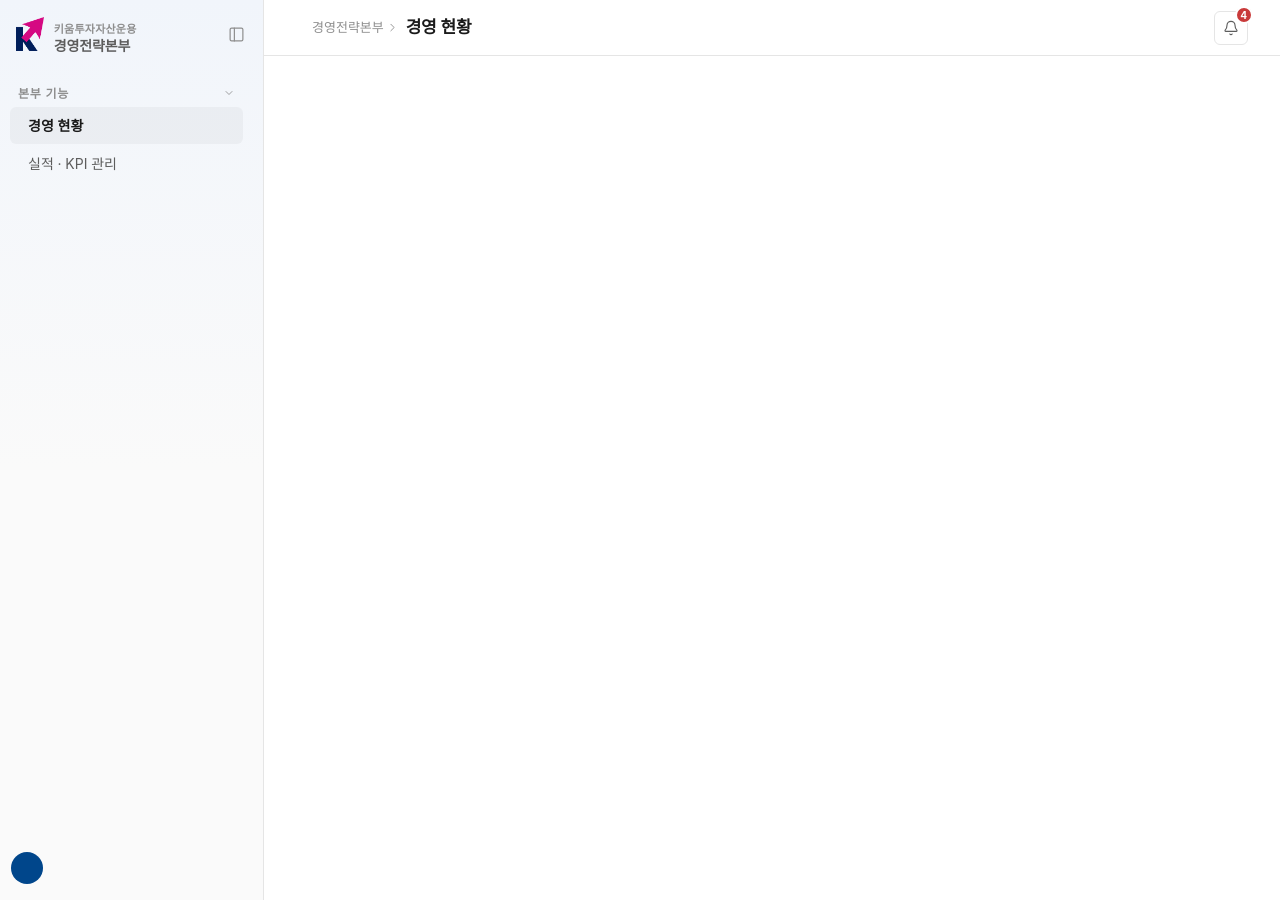
Test: 다른 페이지로 옮겨도 열린 채로 있고, 알림 내용을 다시 그리지 않는다
Click the button named "알림" at (1231, 28), box [1214,10,1248,44]
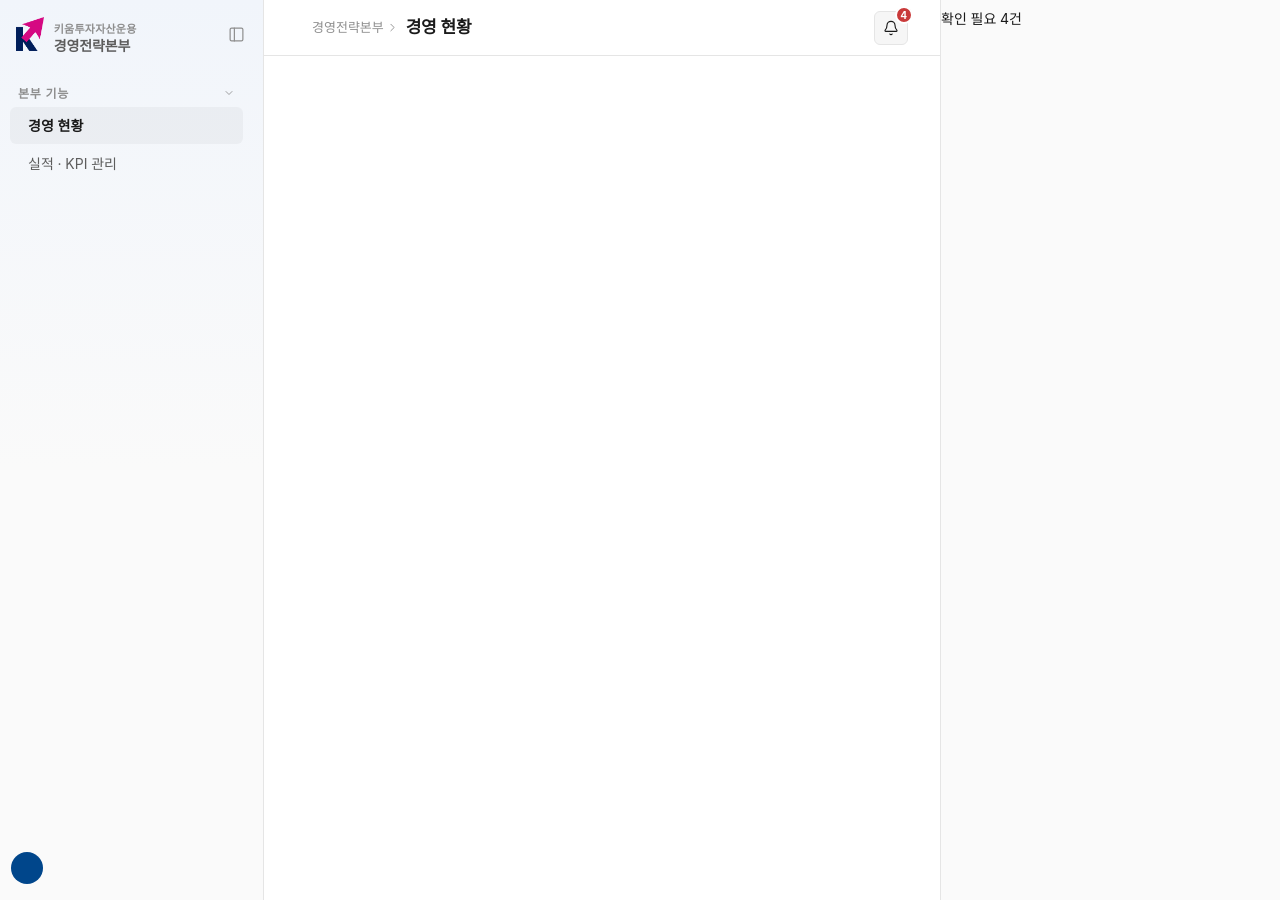
Click the link "실적 · KPI 관리" at (72, 164), box [28,155,117,172]
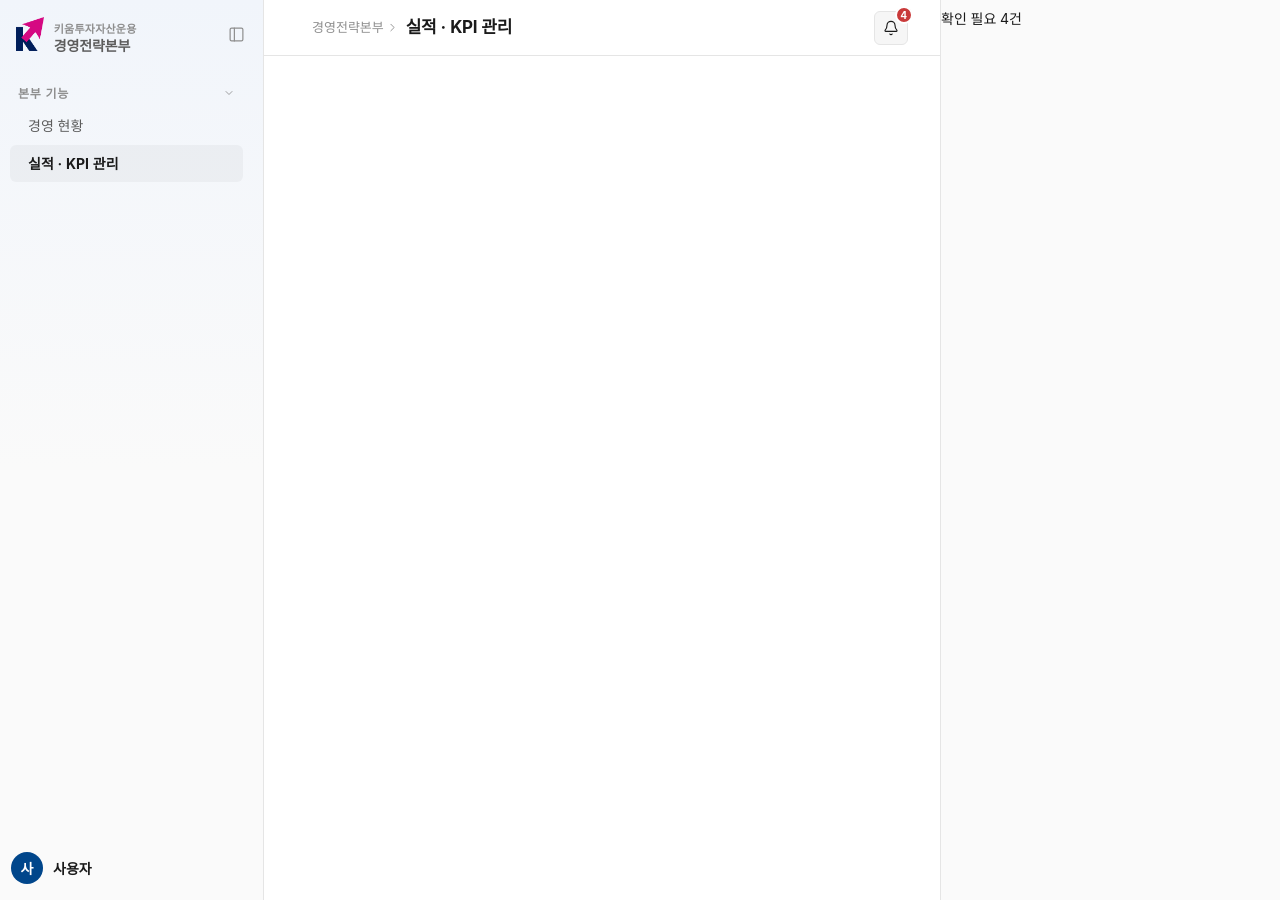
Now the heading "실적 · KPI 관리" is shown, box [406,17,512,38]
